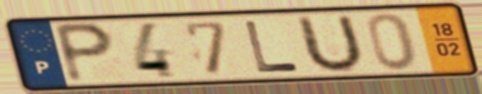0: (364, 10, 421, 73)
4: (126, 20, 182, 81)
7: (183, 20, 230, 77)
L: (241, 19, 302, 74)
P: (50, 21, 118, 86)
U: (295, 12, 367, 76)
